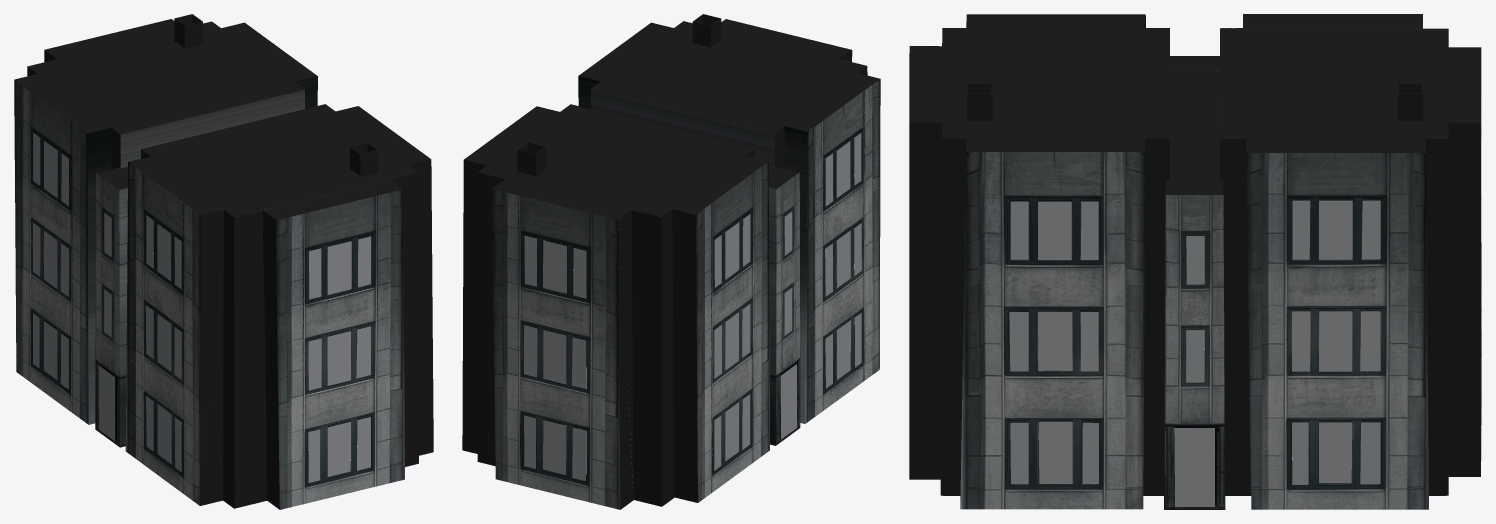
File: business_building.glb
3 renders of one model, left to right at view 1: azimuth 30°, elevation 25°; view 2: azimuth 150°, elevation 25°; view 3: azimuth 270°, elevation 25°, orthographic. The views are drawn at different scales.
Visible parts, largest first — view 1: Object_6, Object_4, Object_5; view 2: Object_6, Object_4, Object_5; view 3: Object_4, Object_6, Object_5.
Part boxes in pixels (bbox=[...]): Object_6: bbox=[14, 76, 412, 509]; Object_4: bbox=[14, 14, 433, 509]; Object_5: bbox=[33, 133, 370, 482]; Object_6: bbox=[485, 51, 880, 509]; Object_4: bbox=[462, 14, 880, 509]; Object_5: bbox=[524, 133, 861, 480]; Object_4: bbox=[909, 14, 1481, 498]; Object_6: bbox=[909, 16, 1481, 509]; Object_5: bbox=[1009, 138, 1481, 506].
Size of the model in its own units: 0.3524 by 0.4514 by 0.6079.
3 materials, 1 textured.
